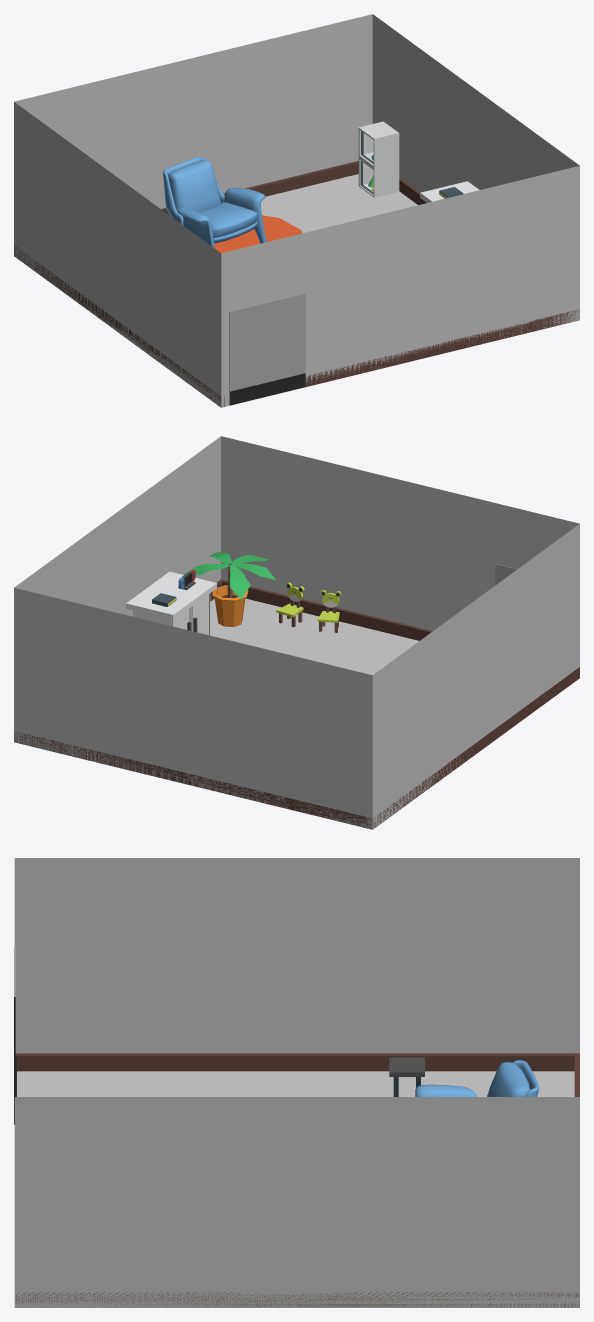
File: map_tom.fbx
3 renders of one model, top to bottom at view 1: azimuth 30°, elevation 25°; view 2: azimuth 150°, elevation 25°; view 3: azimuth 270°, elevation 25°, orthographic. The views are drawn at different scales.
Parts seen in each view (by area): view 1: Wall_ground, pCube8, sofa, tu_dung_do, tham, tu; view 2: Wall_ground, pCube8, tu, tree, ghe1, ghe; view 3: Wall_ground, pCube8, sofa, ghedung.
Boxes of the visible parts, box(x1,y1,x2,y2) form: Wall_ground: box(14, 14, 579, 407); pCube8: box(14, 161, 579, 406); sofa: box(163, 157, 266, 248); tu_dung_do: box(358, 121, 399, 197); tham: box(214, 215, 302, 253); tu: box(420, 181, 479, 202); Wall_ground: box(14, 436, 579, 829); pCube8: box(14, 564, 579, 828); tu: box(126, 569, 216, 635); tree: box(184, 552, 275, 626); ghe1: box(276, 582, 304, 627); ghe: box(317, 590, 341, 632); Wall_ground: box(14, 858, 579, 1307); pCube8: box(14, 946, 579, 1307); sofa: box(415, 1060, 539, 1096); ghedung: box(389, 1057, 424, 1096).
Bounding box in the file's own units: 6468 × 2692 × 6476.
